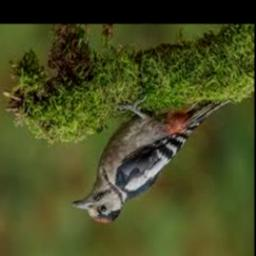Woodpecker: (72, 98, 229, 223)
